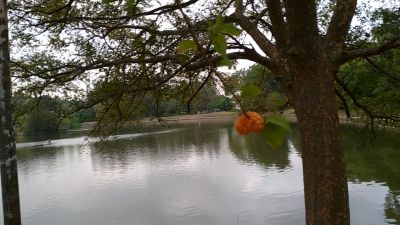eggs: (235, 110, 265, 137)
